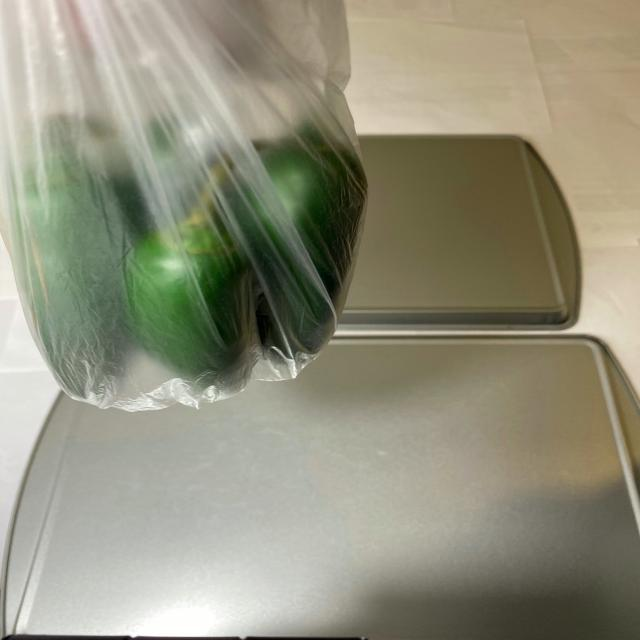chilli: (0, 77, 379, 405)
